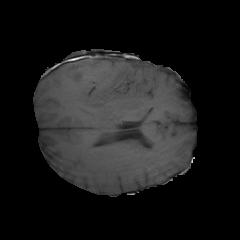glioma: (69, 65, 139, 116)
